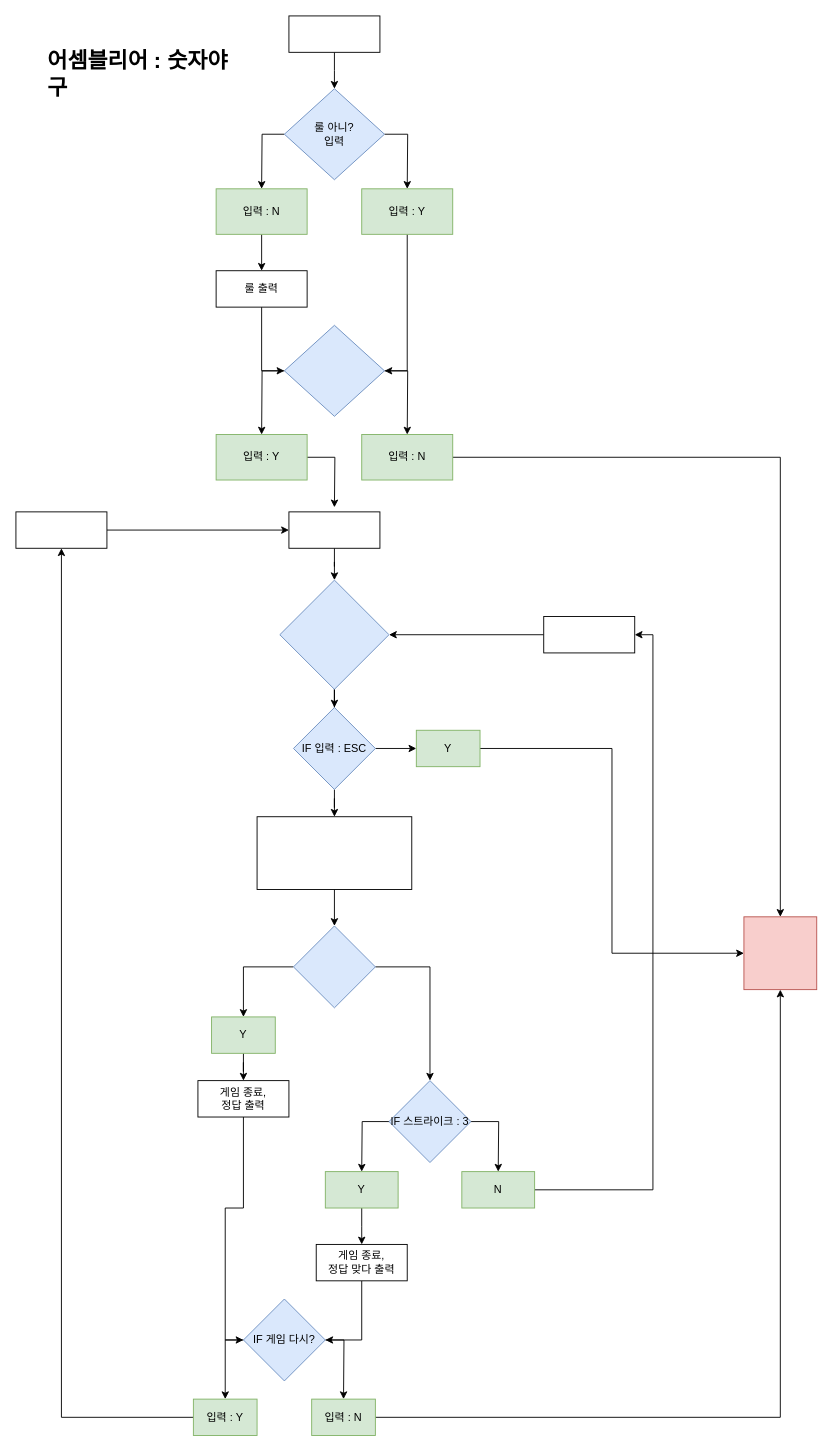
This 833x1451 diagram has some shape labels left out. The shapes that lost their labels are listed below. From the top down, each one's box as (x1, y1, x2, y2) in pixels, then its label:
(288, 15, 380, 52): MSG 출력
(283, 324, 384, 416): Are you ready? 입력
(15, 511, 107, 548): RE START
(288, 511, 380, 548): 3자리 난수 생성
(279, 579, 389, 689): WHILE 3자리 숫자 입력
(543, 616, 635, 653): 이닝 ++
(256, 816, 412, 890): 입력한 3가지 숫자와 난수 숫자와 비교하여 스트라이크, 볼, 아웃 카운트
(293, 925, 375, 1008): IF 이닝 > 9
(743, 916, 817, 990): END GAME
